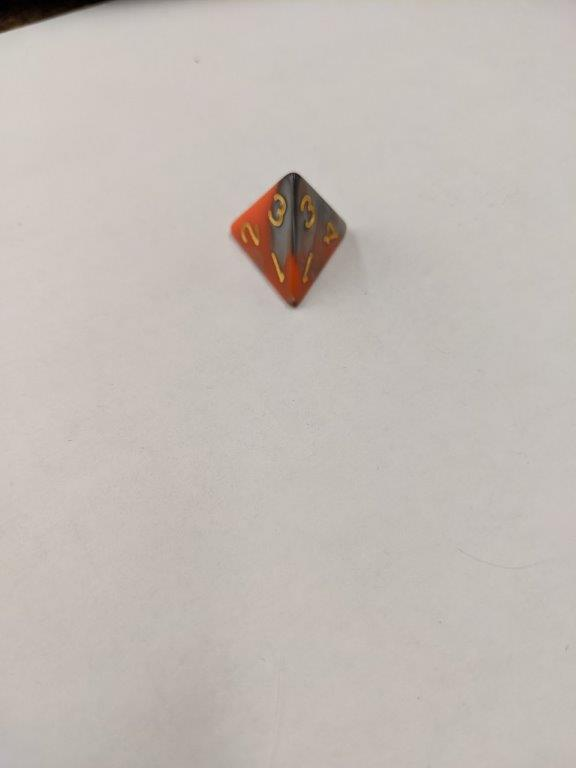d4-3: (227, 171, 353, 311)
